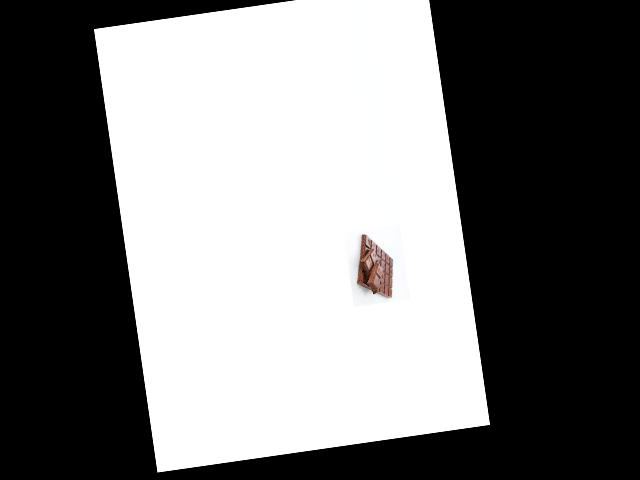chocolate: (347, 229, 401, 303)
